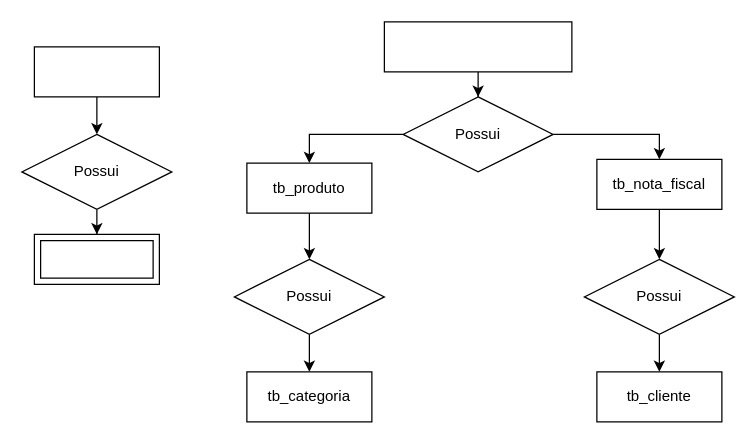
The diagram is 756 pixels wide and 444 high, and some of its shapes have lost their labels. Here are the shapes that lost their labels. From the top down, the centre of each, then its label:
At [477,46]: "tb_nota_fiscal_item".
At [96,71]: "tb_contato".
At [96,258]: "tb_fornecedor".
